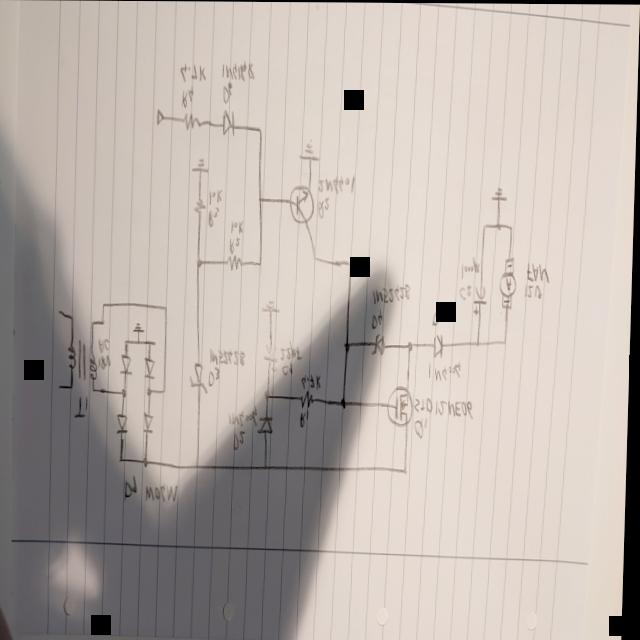capacitor: (264, 342, 281, 374), (474, 285, 489, 315)
diode: (191, 362, 212, 396), (222, 108, 237, 139), (373, 332, 388, 357), (118, 413, 131, 441), (120, 355, 135, 378), (259, 416, 277, 435), (434, 334, 446, 361), (144, 411, 157, 435), (145, 357, 157, 379)
ground: (298, 137, 321, 163), (491, 184, 509, 204), (193, 157, 209, 176), (263, 299, 281, 315), (134, 322, 148, 334)
junction: (345, 341, 353, 353), (342, 397, 349, 410), (404, 464, 411, 477), (408, 341, 415, 353), (197, 258, 204, 270), (257, 125, 264, 137), (503, 337, 510, 348), (145, 457, 151, 469), (123, 388, 129, 400), (476, 339, 483, 349), (313, 254, 320, 264), (70, 314, 77, 324), (148, 388, 154, 398), (266, 391, 272, 401), (258, 196, 264, 206), (348, 261, 354, 271), (496, 221, 502, 231), (265, 463, 271, 473), (197, 462, 203, 472), (70, 382, 76, 392), (510, 223, 515, 234), (93, 387, 99, 396), (149, 339, 155, 348), (92, 319, 97, 329), (165, 304, 170, 314), (125, 338, 131, 346), (102, 319, 107, 328), (259, 261, 264, 269), (102, 302, 107, 310), (163, 388, 168, 396), (121, 456, 126, 464), (138, 339, 143, 346), (484, 223, 488, 231)
resistor: (182, 113, 203, 133), (228, 254, 244, 272), (302, 389, 316, 409), (195, 197, 207, 216)
terminal: (156, 107, 166, 129), (59, 384, 64, 392), (59, 308, 64, 316)
text: (416, 398, 477, 420), (318, 171, 357, 196), (373, 282, 412, 306), (429, 360, 464, 386), (142, 482, 181, 505), (222, 59, 256, 85), (211, 348, 248, 368), (230, 405, 261, 428), (179, 63, 208, 85), (527, 262, 552, 285), (282, 340, 305, 362), (75, 394, 91, 421), (126, 474, 141, 501), (302, 373, 323, 391), (317, 195, 332, 220), (463, 259, 481, 279), (416, 417, 430, 442), (181, 86, 195, 110), (526, 283, 544, 301), (235, 430, 249, 452), (210, 366, 223, 388), (372, 308, 385, 330), (99, 354, 114, 372), (433, 306, 445, 328), (209, 207, 221, 229), (209, 188, 223, 206), (302, 408, 313, 430), (230, 235, 242, 255), (223, 82, 233, 105), (231, 219, 245, 235), (461, 285, 474, 301), (99, 338, 112, 354), (283, 362, 296, 378)
transformer: (68, 337, 101, 381)
transistor: (290, 183, 317, 227), (389, 385, 416, 428)
